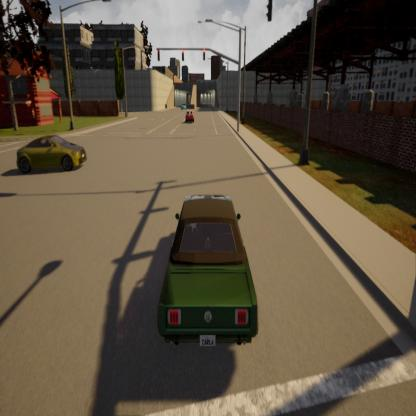Cars: (152, 181, 265, 362), (13, 129, 98, 179), (184, 108, 196, 125), (181, 102, 187, 109)
